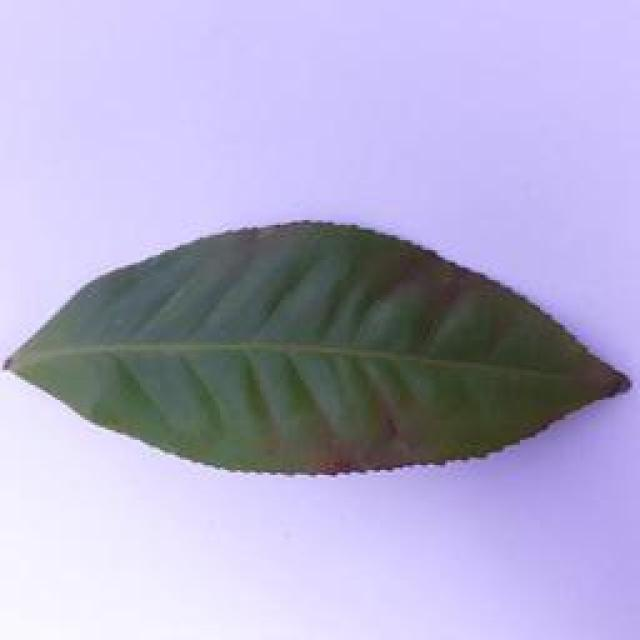Red Leaf Spot: (0, 200, 640, 499)
